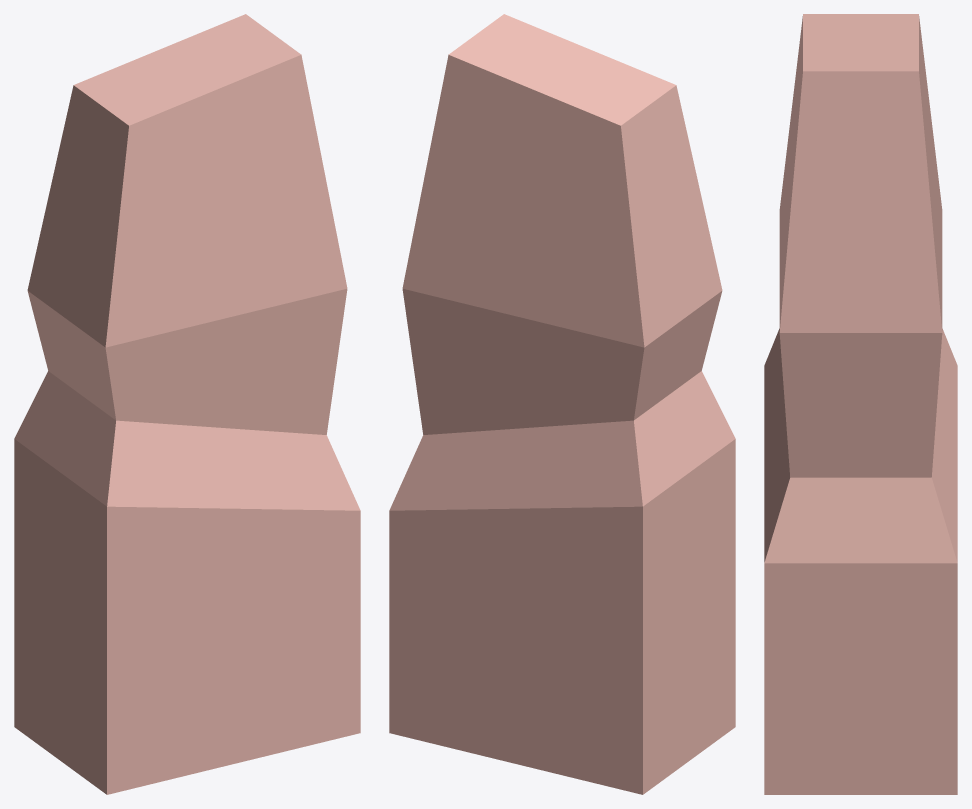
Rendered from Mega_Asset_s_Pack_Cube_353.FBX.
The picture shows the model from 3 angles, left to right: view 1: azimuth 30°, elevation 25°; view 2: azimuth 150°, elevation 25°; view 3: azimuth 270°, elevation 25°; orthographic projection. The views are drawn at different scales.
Visible parts, largest first — view 1: Mega_Asset_s_Pack_Cube_353; view 2: Mega_Asset_s_Pack_Cube_353; view 3: Mega_Asset_s_Pack_Cube_353.
Boxes of the visible parts, x1,y1,x2,y2 form: Mega_Asset_s_Pack_Cube_353: [14, 14, 360, 794]; Mega_Asset_s_Pack_Cube_353: [389, 14, 735, 794]; Mega_Asset_s_Pack_Cube_353: [764, 14, 957, 794].
Size of what is drawn, in the model's own units: 105 by 66.47 by 267.
